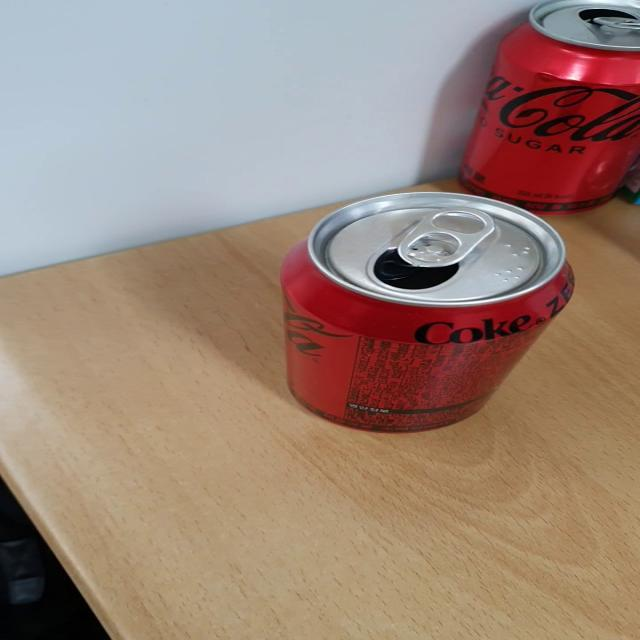coca-cola: (260, 185, 592, 453), (456, 0, 640, 222)
